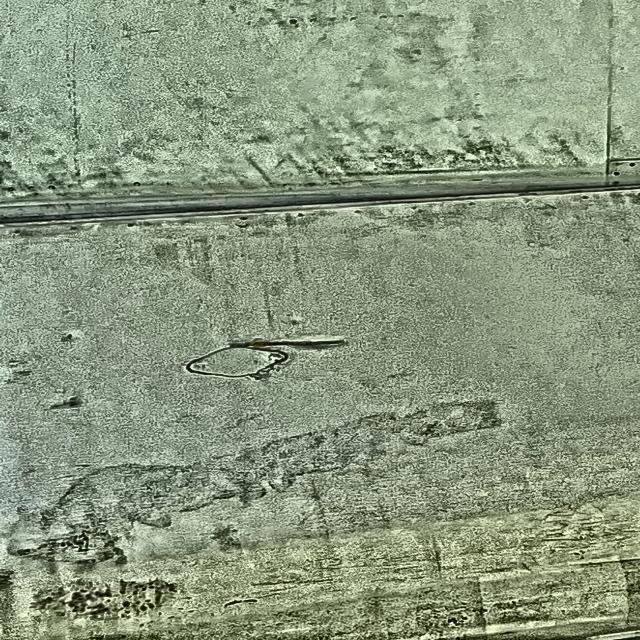crack: (229, 332, 351, 355)
